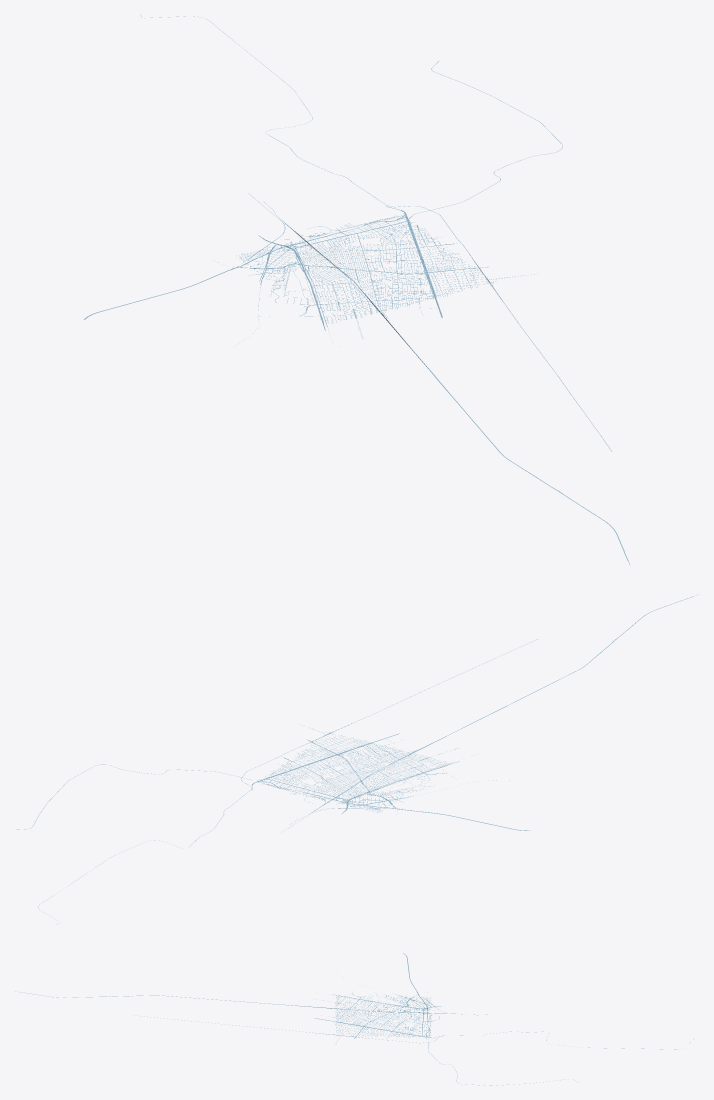
The model's file is roads.glb.
3 renders of one model, top to bottom at view 1: azimuth 30°, elevation 25°; view 2: azimuth 150°, elevation 25°; view 3: azimuth 270°, elevation 25°, orthographic. The views are drawn at different scales.
Parts seen in each view (by area): view 1: roads; view 2: roads; view 3: roads.
Part boxes in pixels (left/top/right/bottom): roads: left=84, top=14, right=630, bottom=565; roads: left=16, top=594, right=698, bottom=924; roads: left=15, top=953, right=694, bottom=1085.
Size of the model in its own units: 12914 by 58.43 by 28155.
